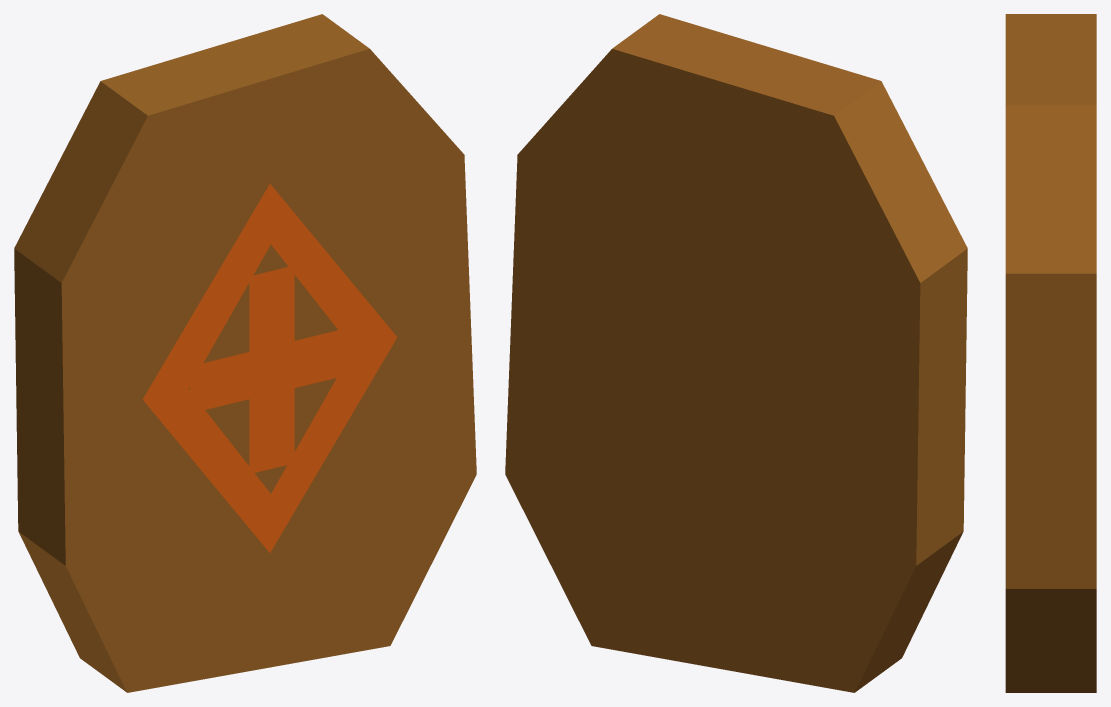
File: xuanyan_shield_plate.obj
The picture shows the model from 3 angles, left to right: view 1: azimuth 30°, elevation 25°; view 2: azimuth 150°, elevation 25°; view 3: azimuth 270°, elevation 25°; orthographic projection. The views are drawn at different scales.
Parts seen in each view (by area): view 1: XuanyanShieldPlate; view 2: XuanyanShieldPlate; view 3: XuanyanShieldPlate.
Boxes of the visible parts, bbox=[...] form: XuanyanShieldPlate: bbox=[14, 14, 476, 692]; XuanyanShieldPlate: bbox=[505, 14, 967, 692]; XuanyanShieldPlate: bbox=[1005, 14, 1096, 692].
Bounding box in the file's own units: 1.01 × 1.4 × 0.221.
